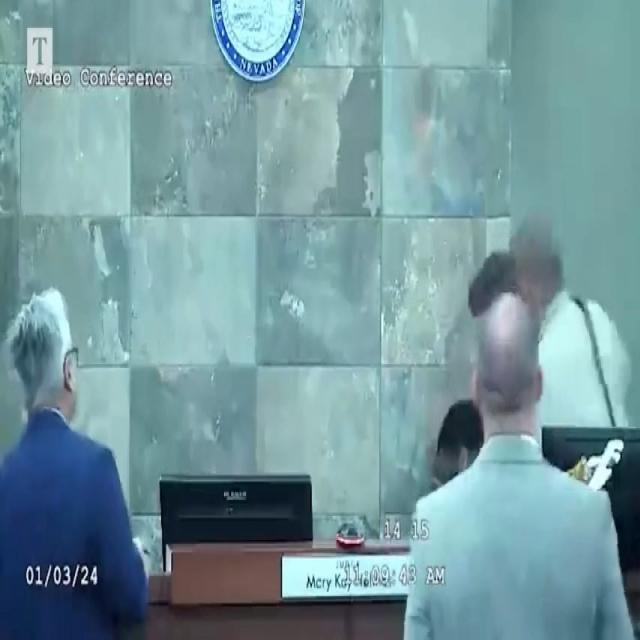fight: (434, 217, 640, 483), (0, 277, 147, 640)
